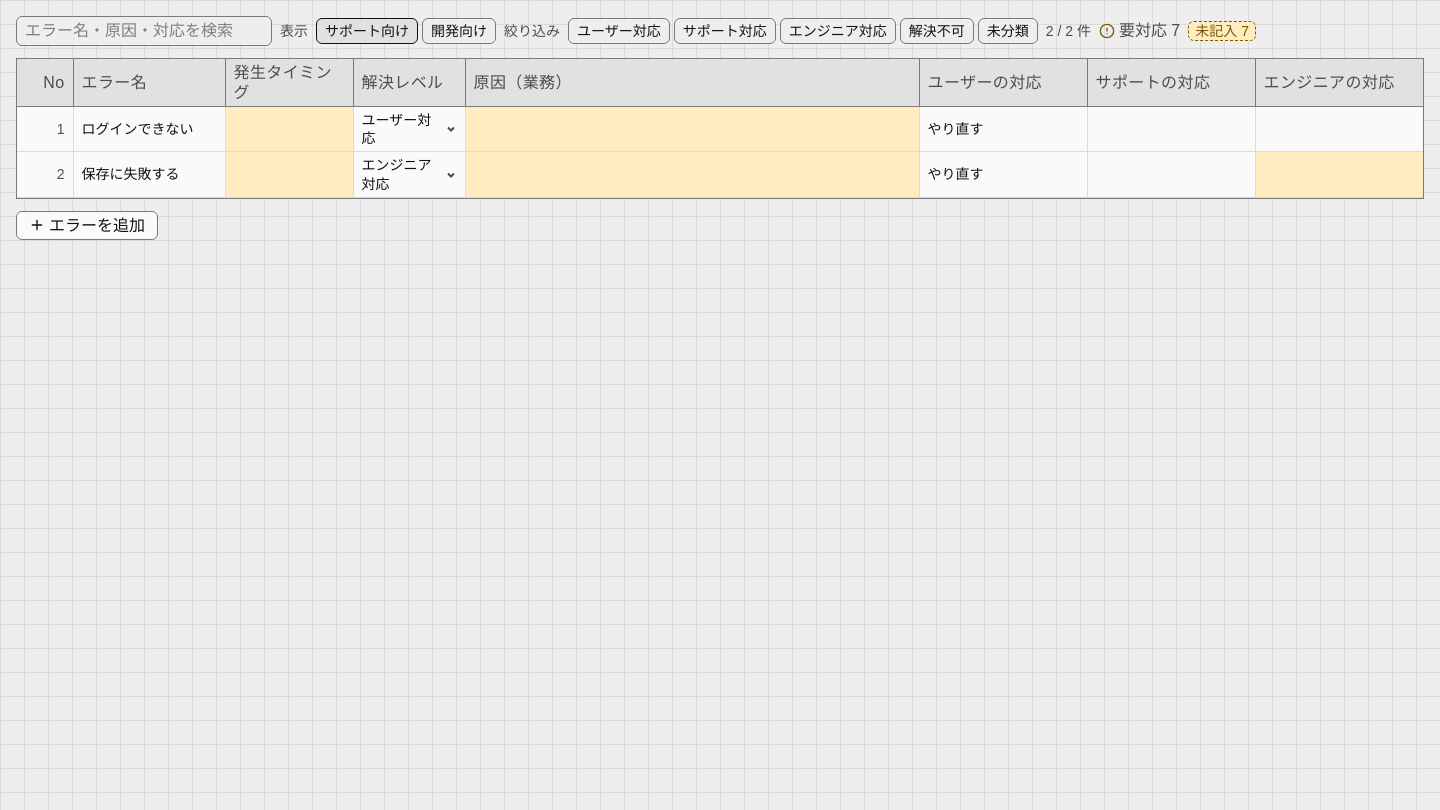
it: ErrorCatalogEditor: 行の操作言語 › 空のエラー名セルで Backspace すると行が消える
Step 1. Clear the field named "エラー名（No.2）" → (149, 175), box [74,162,224,188]
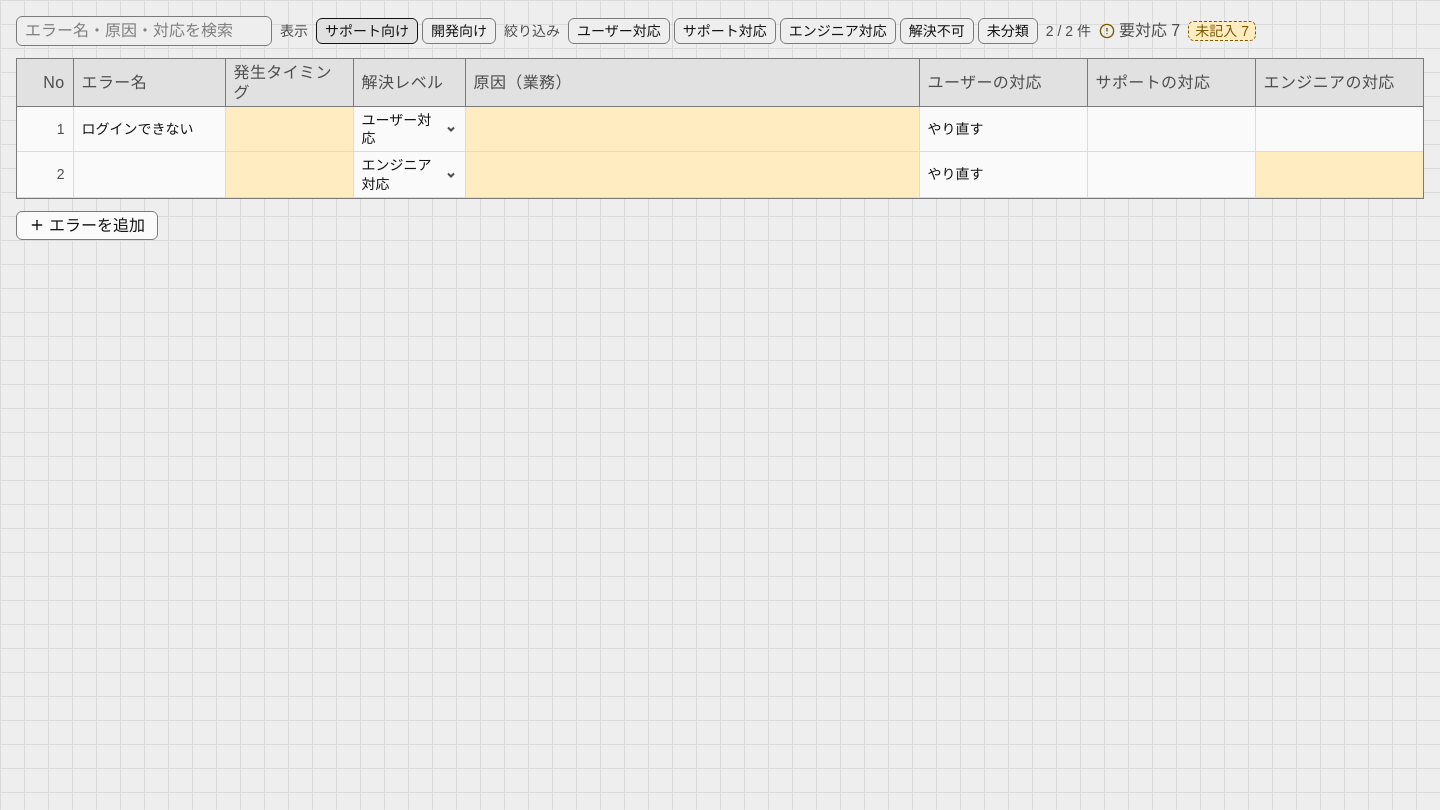
Step 2. Press Backspace in the field named "エラー名（No.2）", box [74,162,224,188]
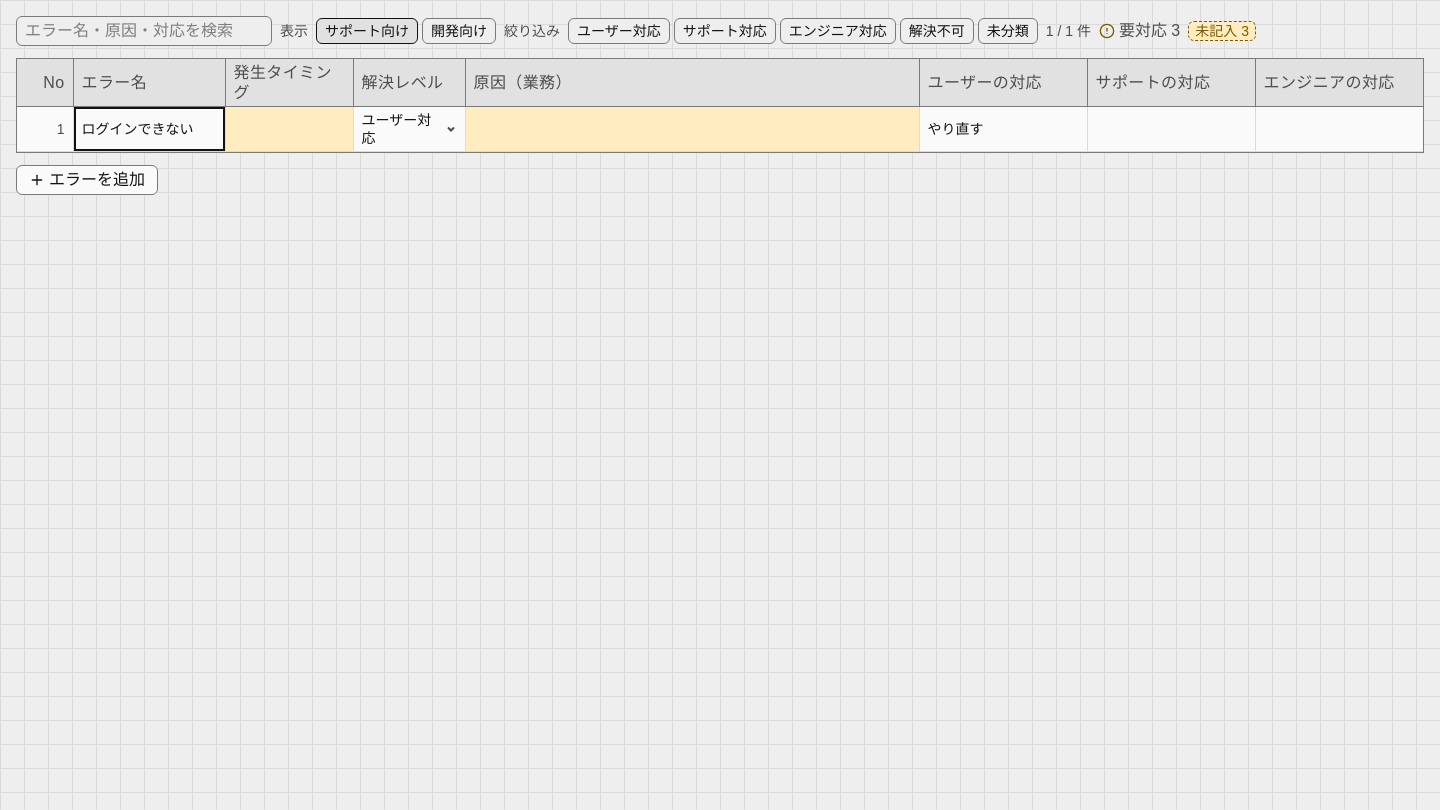
expect the number of fields named "エラー名（" is 1: met, box [74,116,224,142]
